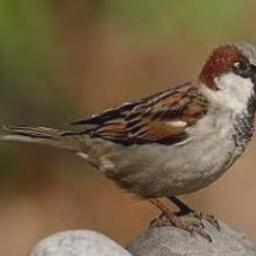Sparrow: (0, 42, 256, 241)
